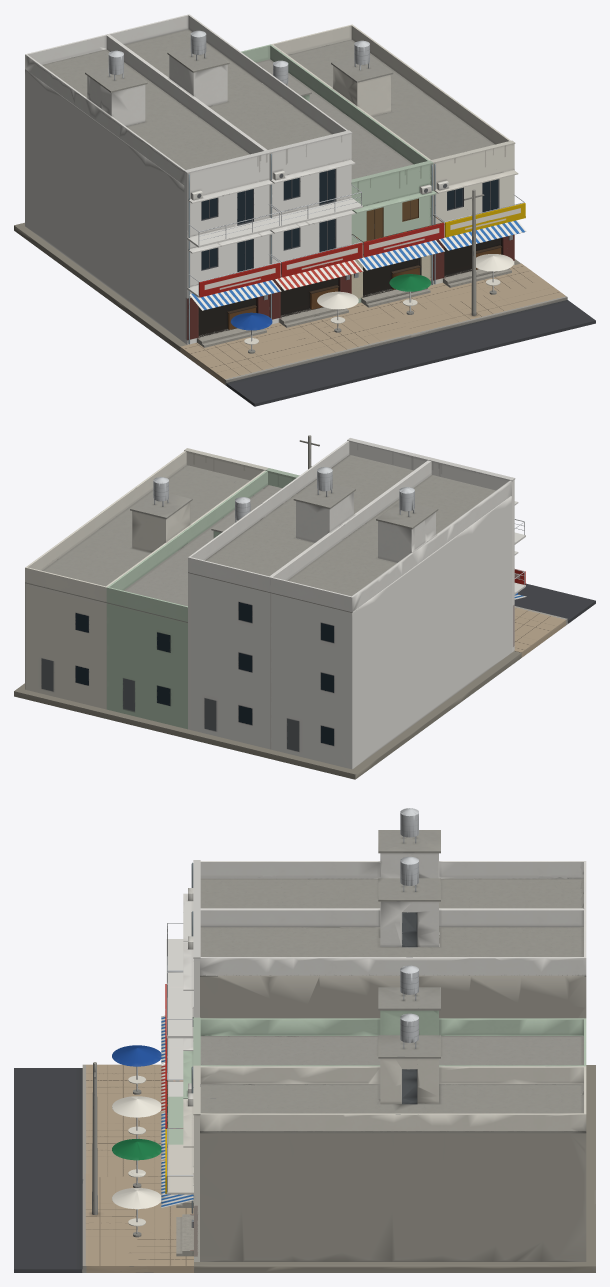
The model's file is quang_trung_20_26.glb.
3 views of the same model, one above another, from view 1: azimuth 30°, elevation 25°; view 2: azimuth 150°, elevation 25°; view 3: azimuth 270°, elevation 25° (orthographic). The views are drawn at different scales.
Parts seen in each view (by area): view 1: quang_trung_20_26; view 2: quang_trung_20_26; view 3: quang_trung_20_26.
Boxes of the visible parts, x1,y1,x2,y2 form: quang_trung_20_26: (14, 14, 595, 406); quang_trung_20_26: (14, 435, 595, 779); quang_trung_20_26: (14, 808, 595, 1272).
Bounding box in the file's own units: 24.3 × 15.59 × 29.68.
Materials: 13 (13 with a texture image).
